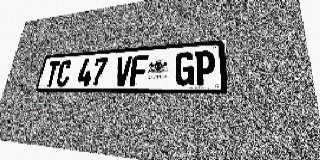4: (76, 58, 94, 86)
7: (90, 57, 108, 86)
C: (55, 60, 72, 87)
F: (129, 55, 148, 86)
G: (175, 51, 194, 86)
P: (195, 50, 215, 85)
T: (44, 61, 61, 87)
V: (114, 56, 132, 86)
